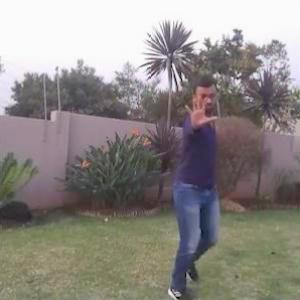follow_hand: (180, 90, 221, 131)
